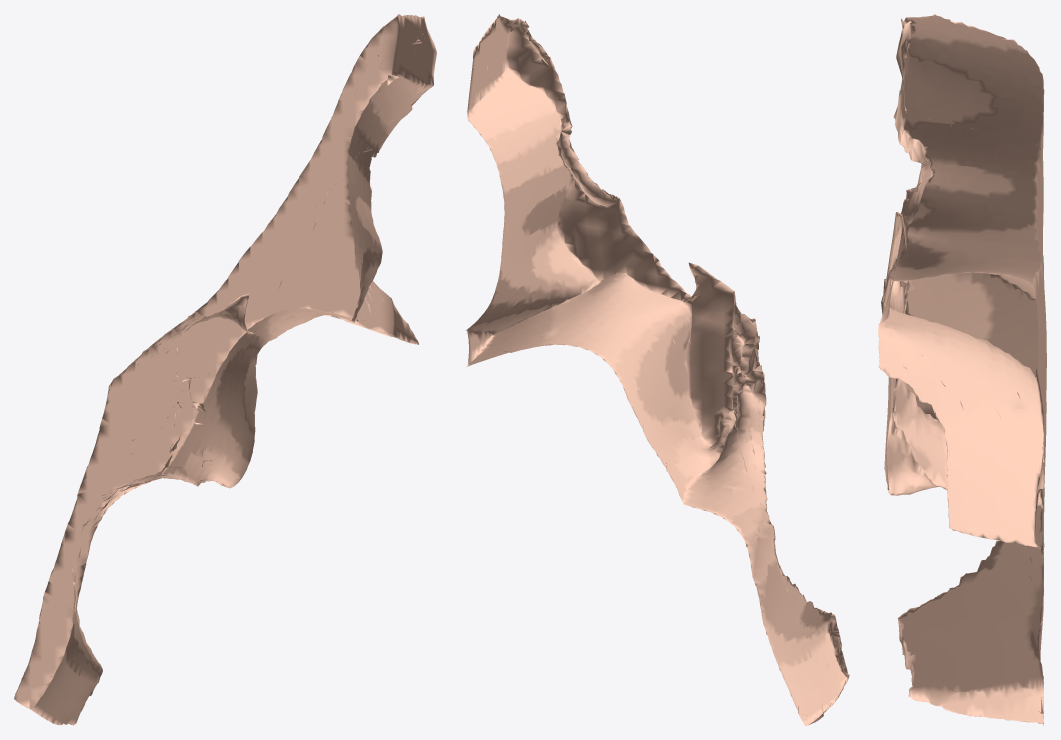
Rendered from Qns2.gltf.
The picture shows the model from 3 angles, left to right: view 1: azimuth 30°, elevation 25°; view 2: azimuth 150°, elevation 25°; view 3: azimuth 270°, elevation 25°; orthographic projection. The views are drawn at different scales.
Parts seen in each view (by area): view 1: Switch_Switch_osgPicked_gmeGeoEntityGeode_Geometry_0; view 2: Switch_Switch_osgPicked_gmeGeoEntityGeode_Geometry_0; view 3: Switch_Switch_osgPicked_gmeGeoEntityGeode_Geometry_0.
Boxes of the visible parts, box(x1,y1,x2,y2) form: Switch_Switch_osgPicked_gmeGeoEntityGeode_Geometry_0: box(14, 14, 436, 725); Switch_Switch_osgPicked_gmeGeoEntityGeode_Geometry_0: box(466, 14, 849, 725); Switch_Switch_osgPicked_gmeGeoEntityGeode_Geometry_0: box(878, 14, 1046, 725).
Size of what is drawn, in the model's own units: 16186 by 26060 by 4065.
